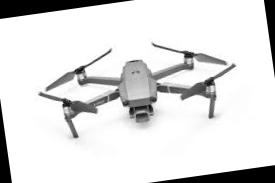drone: (29, 24, 247, 149)
